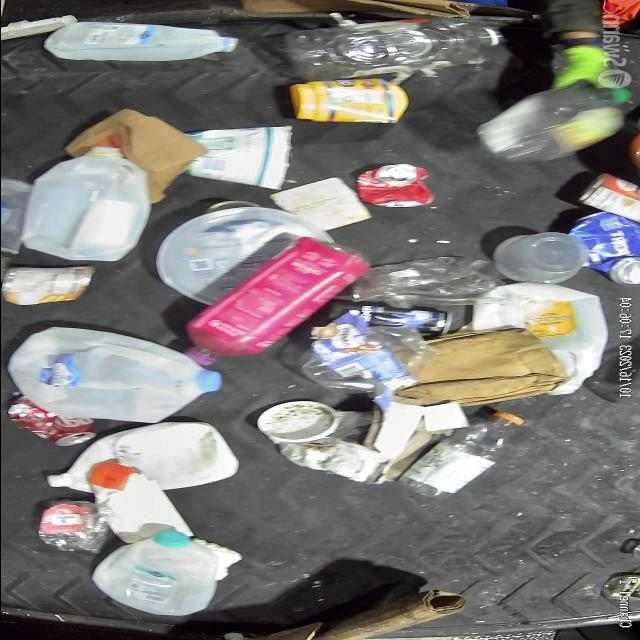can: (580, 212, 638, 287), (8, 399, 96, 447), (336, 300, 458, 334), (357, 163, 439, 210), (1, 264, 102, 302), (561, 173, 640, 213)
milk_jug: (22, 327, 226, 422), (29, 146, 149, 262), (47, 426, 239, 492), (83, 536, 223, 614), (46, 22, 248, 62)
non_white_jug: (175, 238, 362, 359)
plastic_bottle: (288, 19, 510, 71), (396, 410, 528, 496)
